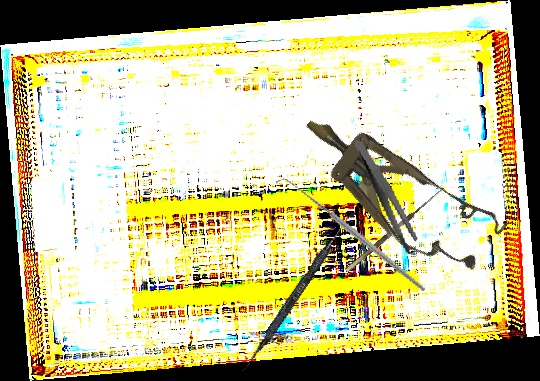Dressing Forceps: (353, 132, 421, 261)
Hook Surgical: (275, 144, 427, 327), (340, 181, 446, 273)
Spatula Surgical: (241, 205, 357, 376)
Speculum: (283, 89, 510, 289)
